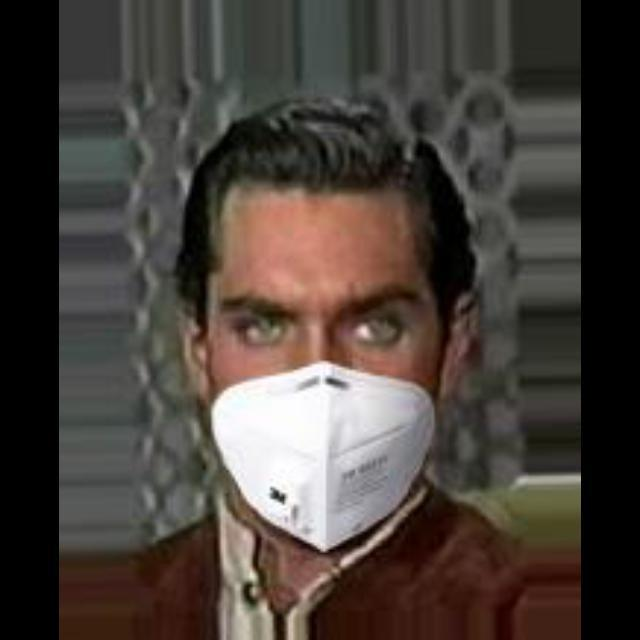suspicion: (178, 105, 500, 542)
